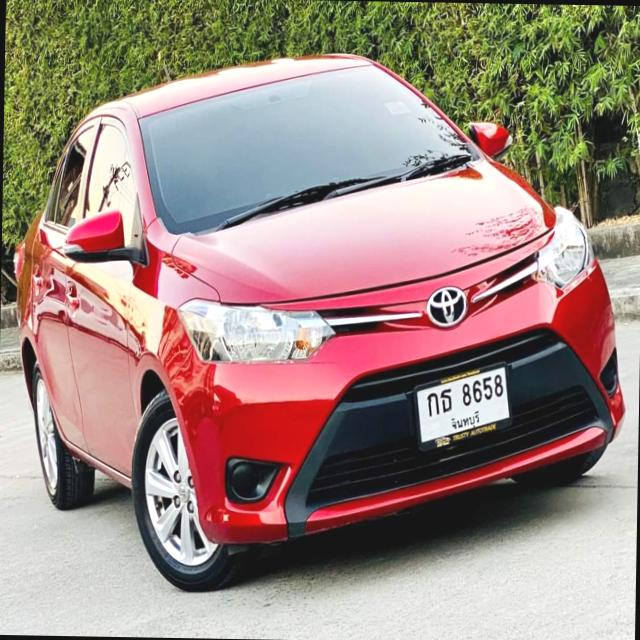license_plate: (412, 357, 514, 456)
